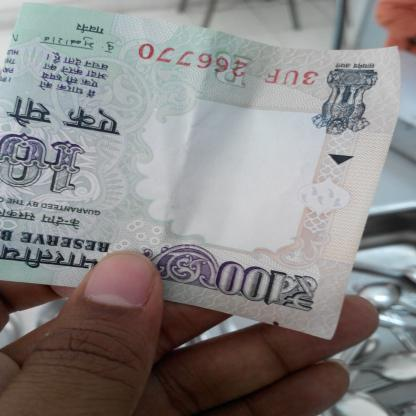Old100Front: (0, 4, 404, 342)
